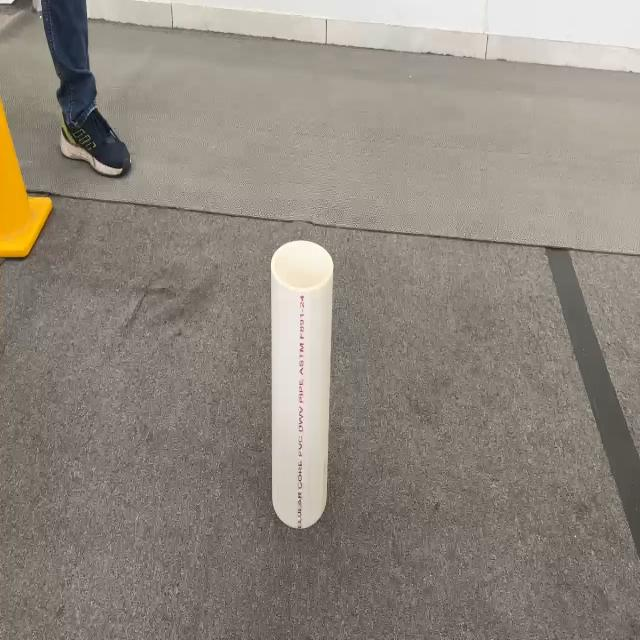coral: (270, 238, 334, 529)
